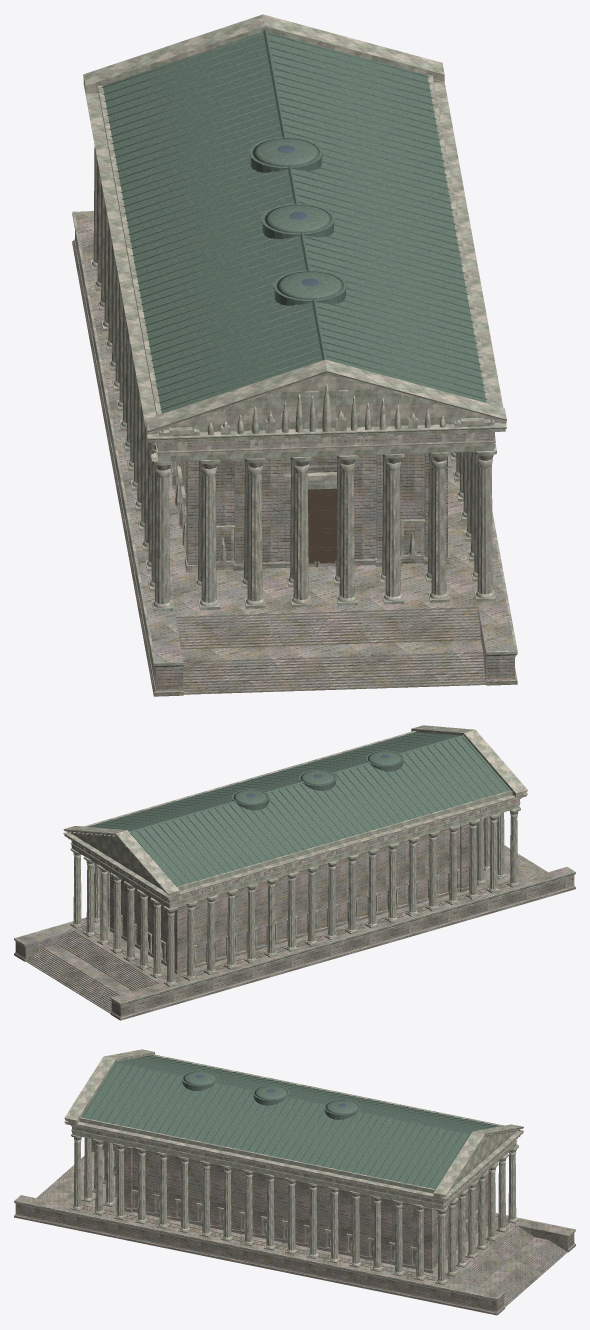
The model's file is madeleine.glb.
3 views of the same model, one above another, from view 1: azimuth 30°, elevation 25°; view 2: azimuth 150°, elevation 25°; view 3: azimuth 270°, elevation 25° (orthographic). The views are drawn at different scales.
Visible parts, largest first — view 1: roof, trim, stone, metal; view 2: trim, stone, roof, metal; view 3: stone, trim, roof, metal.
Part boxes in pixels (x1=…): roof: x1=101, y1=30, x2=487, y2=413; trim: x1=72, y1=14, x2=517, y2=668; stone: x1=72, y1=212, x2=517, y2=696; metal: x1=308, y1=488, x2=336, y2=566; trim: x1=14, y1=725, x2=575, y2=1006; stone: x1=14, y1=799, x2=575, y2=1020; roof: x1=88, y1=732, x2=510, y2=886; metal: x1=80, y1=881, x2=509, y2=981; stone: x1=14, y1=1126, x2=575, y2=1315; trim: x1=14, y1=1049, x2=575, y2=1301; roof: x1=81, y1=1055, x2=500, y2=1189; metal: x1=83, y1=1205, x2=509, y2=1280.
Bounding box in the file's own units: 95.48 × 36.2 × 135.
Materials: 5 (5 with a texture image).
